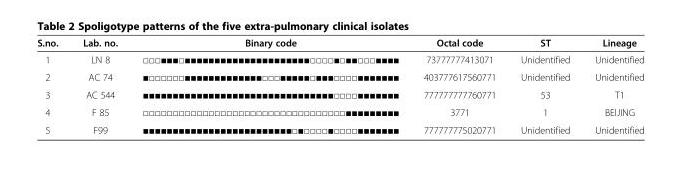table: (36, 36, 643, 135)
table column: (129, 36, 410, 135), (410, 36, 507, 135), (507, 36, 581, 135), (581, 36, 643, 135), (69, 36, 129, 135), (36, 36, 69, 135)
table column header: (36, 36, 643, 50)
table row: (36, 67, 643, 85), (36, 85, 643, 103), (36, 50, 643, 67), (36, 103, 643, 120), (36, 120, 643, 135), (36, 36, 643, 50)
